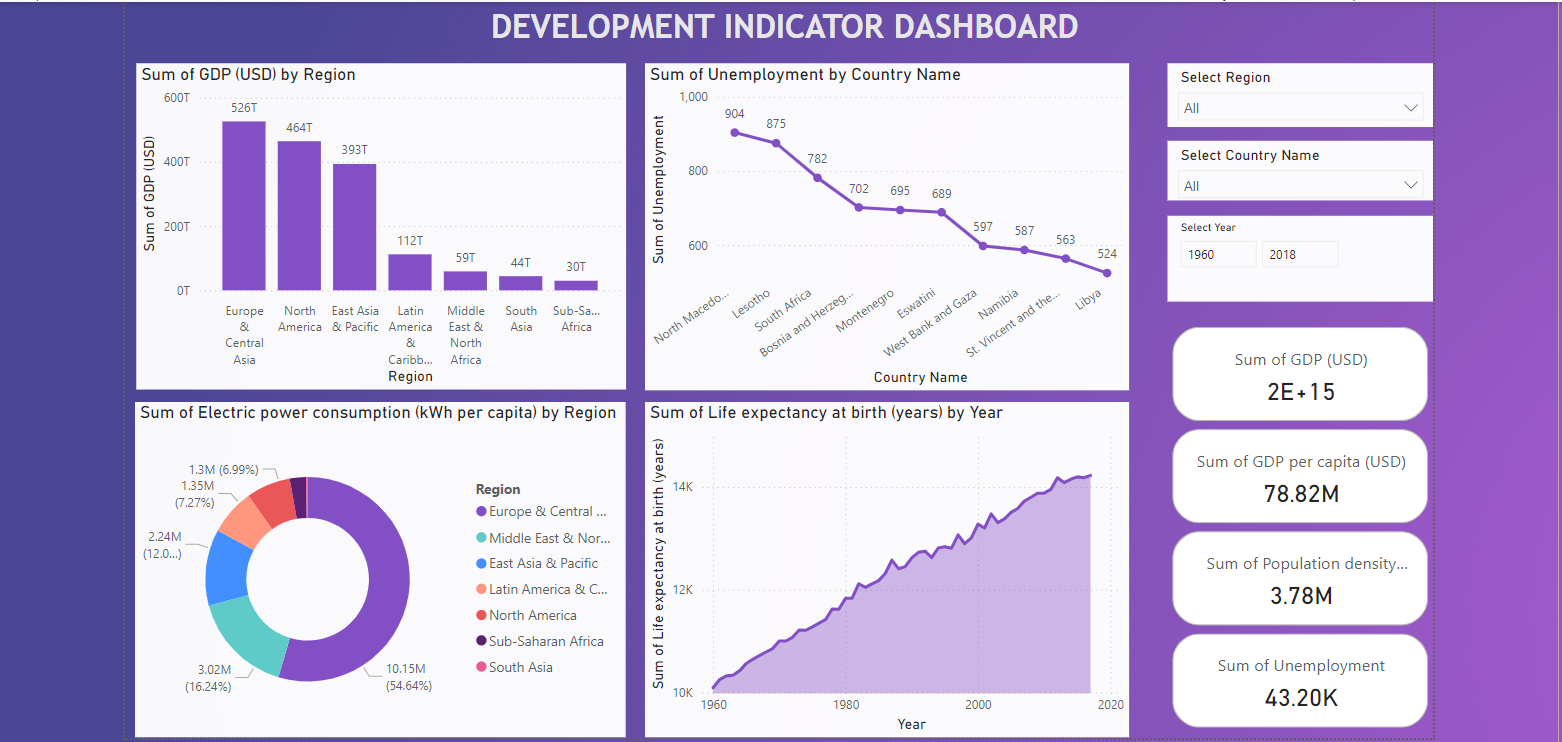

This screenshot's page, from the dashboard's own definition file:
{"tool":"powerbi","page":{"name":"Page 1","canvas":[1280,720],"ordinal":0},"visuals":[{"type":"clusteredColumnChart","fields":{"Category":["Development Indicators.Region"],"Y":["Sum(Development Indicators.GDP (USD))"]},"box":[11,59.9,479.4,319.2],"z":0},{"type":"lineChart","fields":{"Category":["Development Indicators.Country Name"],"Y":["Sum(Development Indicators.Unemployment (% of total labor force) (modeled ILO estimate))"]},"box":[509.2,59.5,473.5,320.1],"z":1000},{"type":"donutChart","fields":{"Category":["Development Indicators.Region"],"Y":["Sum(Development Indicators.Electric power consumption (kWh per capita))"]},"box":[9.3,391.5,480.1,328],"z":2000},{"type":"areaChart","fields":{"Category":["Development Indicators.Year"],"Y":["Sum(Development Indicators.Life expectancy at birth (years))"]},"box":[509.2,391.5,473.5,328],"z":3000},{"type":"cardVisual","fields":{"Data":["Sum(Development Indicators.GDP (USD))","Sum(Development Indicators.GDP per capita (USD))","Sum(Development Indicators.Population density (people per sq. km of land area))","Sum(Development Indicators.Unemployment (% of total labor force) (modeled ILO estimate))"]},"box":[1019.8,313,260.5,406],"z":4000},{"type":"textbox","title":"DEVELOPMENT INDICATOR DASHBOARD","box":[9.3,0,1271,59.5],"z":5000},{"type":"slicer","fields":{"Values":["Development Indicators.Region"]},"box":[1019.8,59.9,260.5,62.4],"z":6000},{"type":"slicer","fields":{"Values":["Development Indicators.Country Name"]},"box":[1019.8,135.7,260.5,58.7],"z":7000},{"type":"slicer","fields":{"Values":["Development Indicators.Year"]},"box":[1019.8,209.1,260.5,84.4],"z":8000}]}

Visuals, with their boxes in screenshot pixels (x1, y1, x2, y2):
clusteredColumnChart - Development Indicators.Region x Sum(Development Indicators.GDP (USD)): 137,61,623,384
lineChart - Development Indicators.Country Name x Sum(Development Indicators.Unemployment (% of total labor force) (modeled ILO estimate)): 642,60,1123,385
donutChart - Development Indicators.Region x Sum(Development Indicators.Electric power consumption (kWh per capita)): 136,397,622,730
areaChart - Development Indicators.Year x Sum(Development Indicators.Life expectancy at birth (years)): 642,397,1123,730
cardVisual - Sum(Development Indicators.GDP (USD)) x Sum(Development Indicators.GDP per capita (USD)): 1160,317,1424,729
"DEVELOPMENT INDICATOR DASHBOARD" textbox: 136,0,1424,60
slicer - Development Indicators.Region: 1160,61,1424,124
slicer - Development Indicators.Country Name: 1160,138,1424,197
slicer - Development Indicators.Year: 1160,212,1424,298
